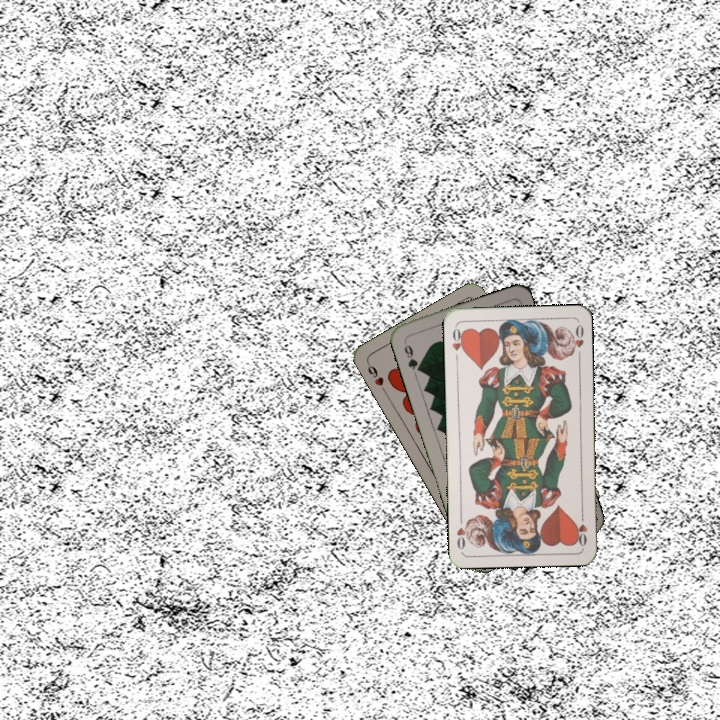G9: (400, 341, 424, 374)
H9: (363, 358, 389, 395)
HO: (448, 323, 467, 363), (572, 508, 590, 549)
